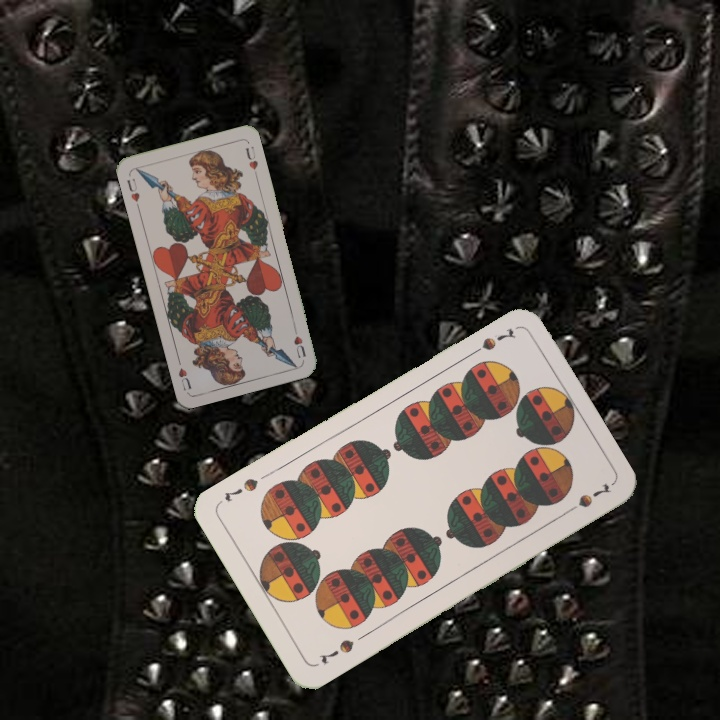HU: (289, 322, 308, 361), (123, 174, 142, 204)
S7: (464, 324, 519, 360), (315, 635, 357, 667)
